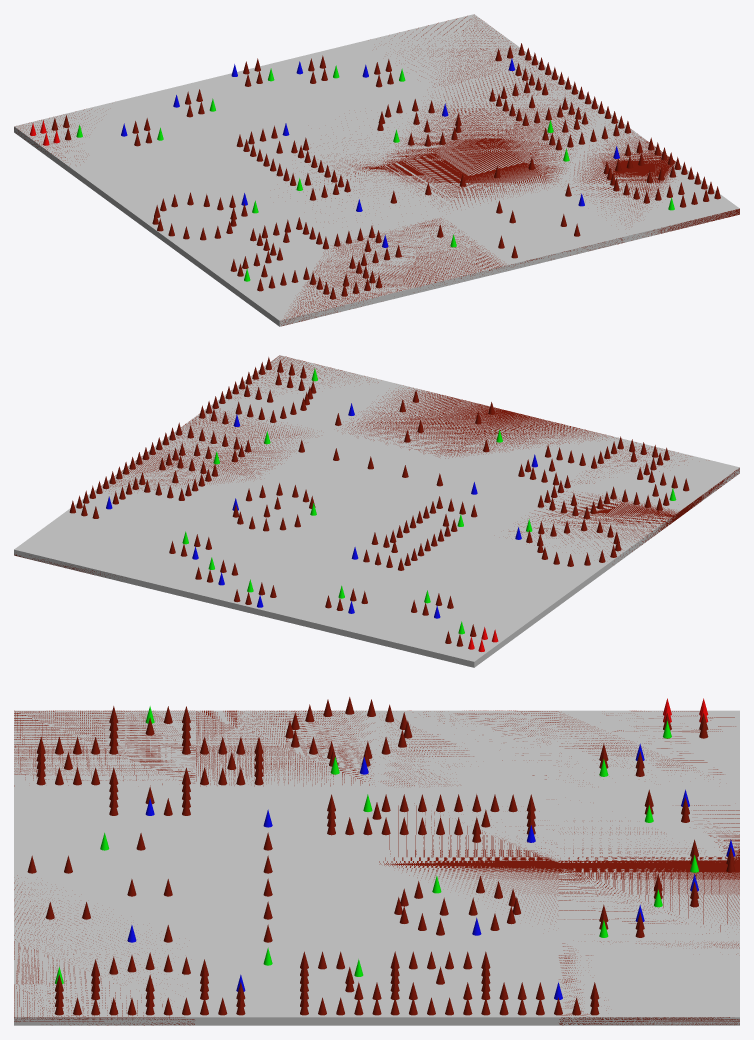
Rendered from Lvl_TopDown_Cones_Course.fbx.
The picture shows the model from 3 angles, top to bottom: view 1: azimuth 30°, elevation 25°; view 2: azimuth 150°, elevation 25°; view 3: azimuth 270°, elevation 25°; orthographic projection. The views are drawn at different scales.
Visible parts, largest first — view 1: Floor, Floor3; view 2: Floor, Floor3; view 3: Floor, Floor3.
Part boxes in pixels (bbox=[...]): Floor: bbox=[14, 14, 739, 326]; Floor3: bbox=[14, 16, 739, 326]; Floor: bbox=[14, 355, 739, 667]; Floor3: bbox=[14, 355, 739, 580]; Floor: bbox=[14, 710, 739, 1025]; Floor3: bbox=[14, 710, 739, 1025].
Size of what is drawn, in the model's own units: 4000 by 4000 by 150.
